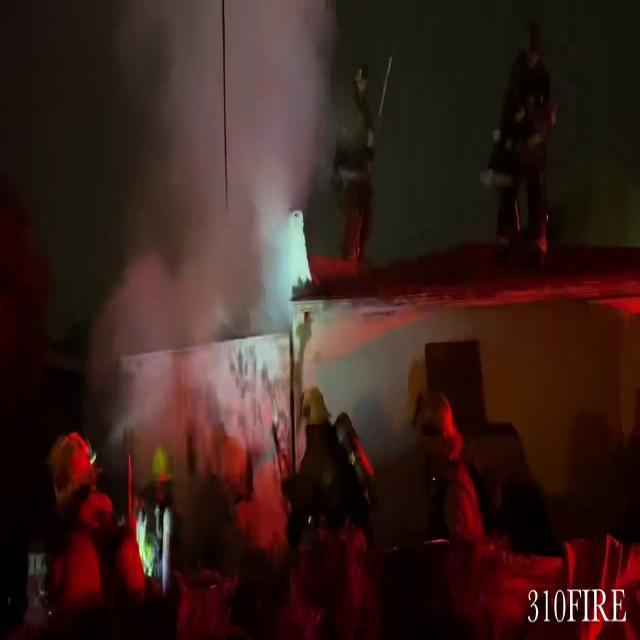Smoke: (100, 0, 351, 441)
